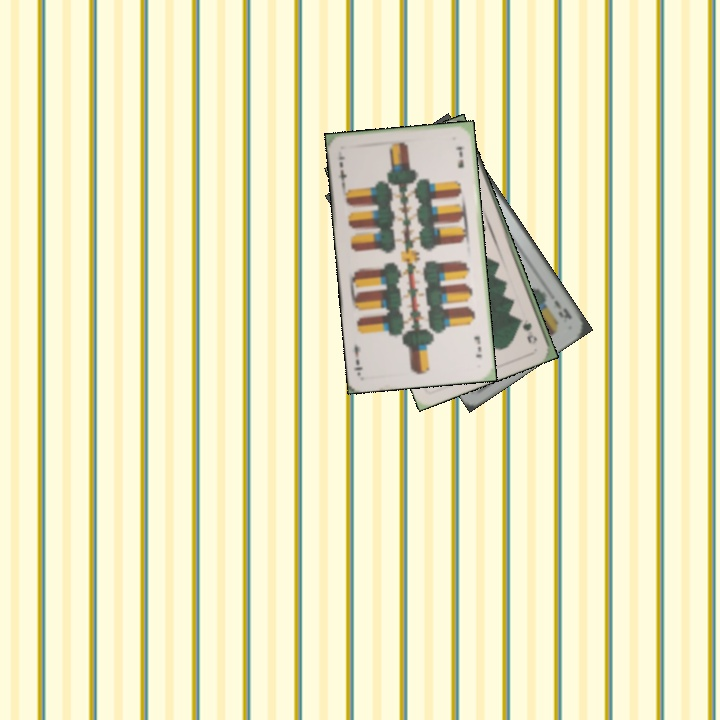E7: (334, 152, 349, 188), (470, 332, 484, 361)
EK: (550, 296, 574, 322)
G9: (516, 313, 539, 345)
